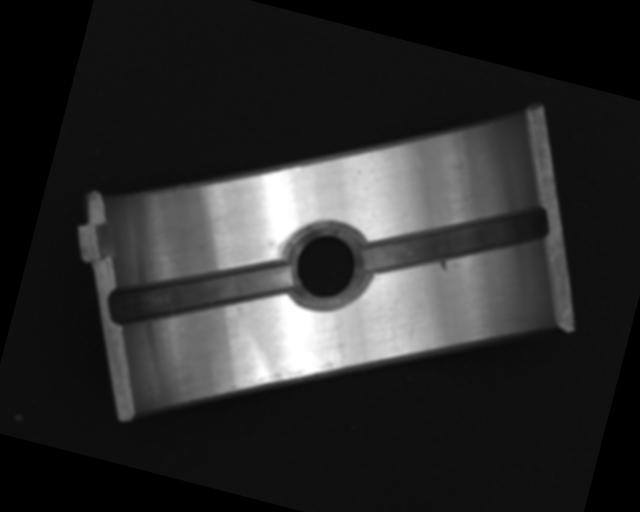bruise: (435, 258, 450, 273)
gap: (361, 168, 551, 313), (105, 224, 297, 363)
hole: (279, 217, 374, 317)
